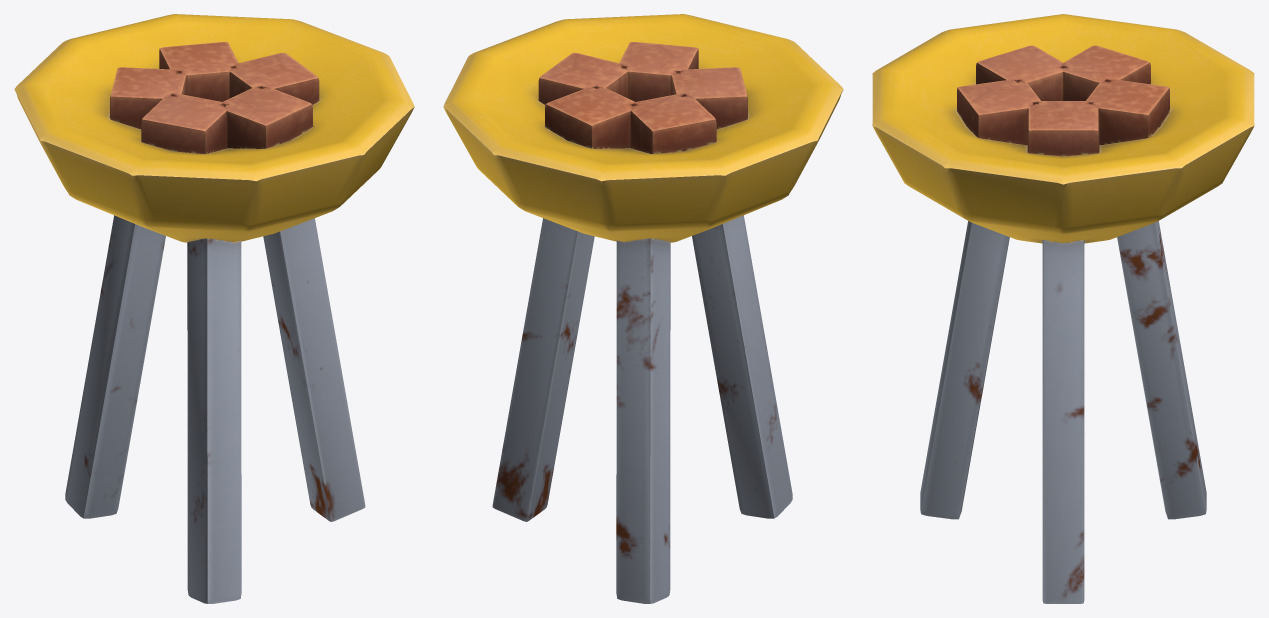
Rendered from Desert_Brasero.fbx.
3 renders of one model, left to right at view 1: azimuth 30°, elevation 25°; view 2: azimuth 150°, elevation 25°; view 3: azimuth 270°, elevation 25°, orthographic.
Parts seen in each view (by area): view 1: Desert_Brasero; view 2: Desert_Brasero; view 3: Desert_Brasero.
Boxes of the visible parts, x1,y1,x2,y2 form: Desert_Brasero: [14, 14, 414, 603]; Desert_Brasero: [443, 14, 843, 603]; Desert_Brasero: [872, 14, 1254, 603].
Bounding box in the file's own units: 336 × 420 × 320.
Materials: 1 (1 with a texture image).
